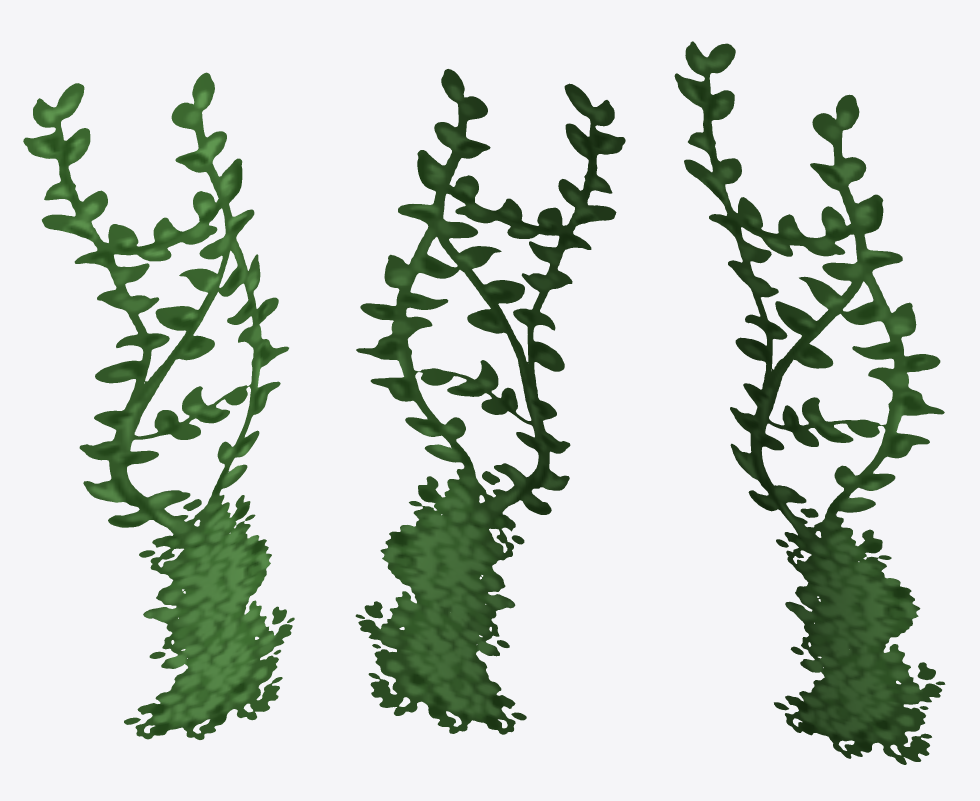
Rendered from E_Mini.fbx.
3 renders of one model, left to right at view 1: azimuth 30°, elevation 25°; view 2: azimuth 150°, elevation 25°; view 3: azimuth 330°, elevation 25°, orthographic.
Parts seen in each view (by area): view 1: E_Mini; view 2: E_Mini; view 3: E_Mini.
Part boxes in pixels (<box>): E_Mini: <box>23,72,294,739</box>; E_Mini: <box>355,69,625,734</box>; E_Mini: <box>674,41,945,764</box>.
Size of the model in its own units: 300 by 700 by 53.66.
1 material, 1 textured.
